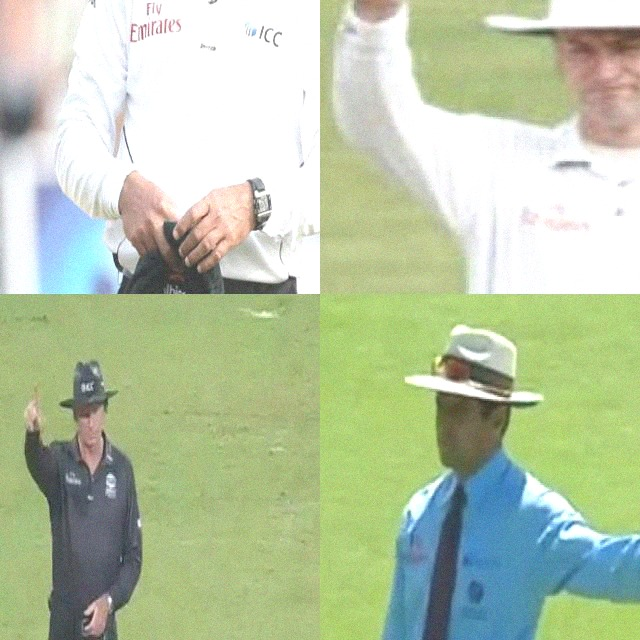No_Action: (45, 0, 320, 294)
No_Ball: (320, 308, 640, 640)
Out: (320, 0, 640, 294), (13, 348, 152, 640)
